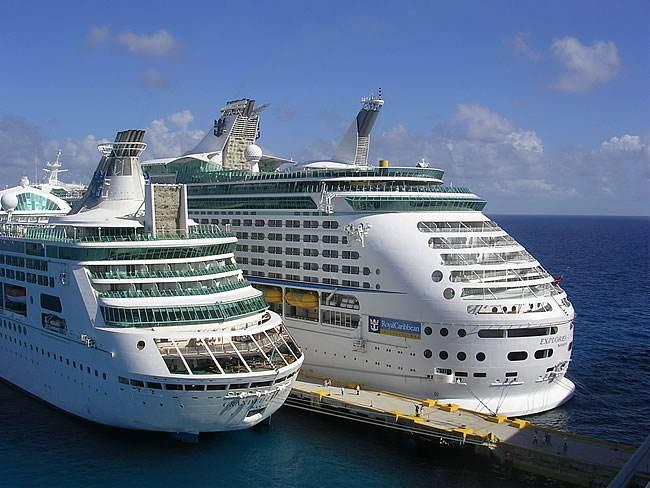youlun: (157, 97, 586, 415), (1, 130, 308, 444)
